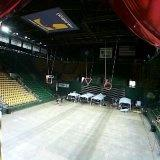Orange_Circle_GShape: (104, 82, 112, 90)
Orange_Triangle_Gshape: (84, 78, 92, 85)
